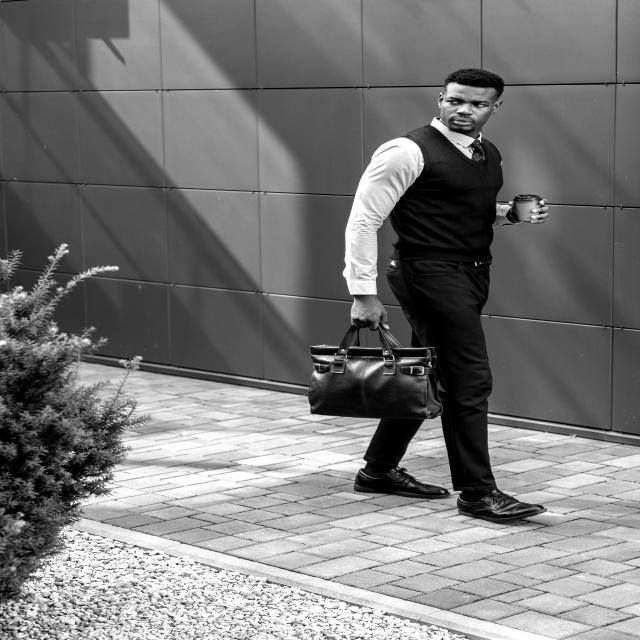No-Boots: (448, 486, 570, 528), (342, 463, 453, 505)
No-Vest: (384, 123, 502, 253)
